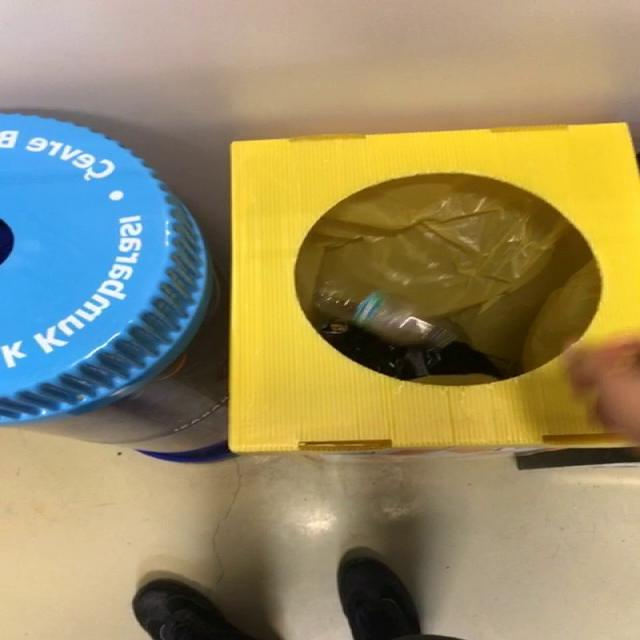plastic: (313, 283, 459, 348)
